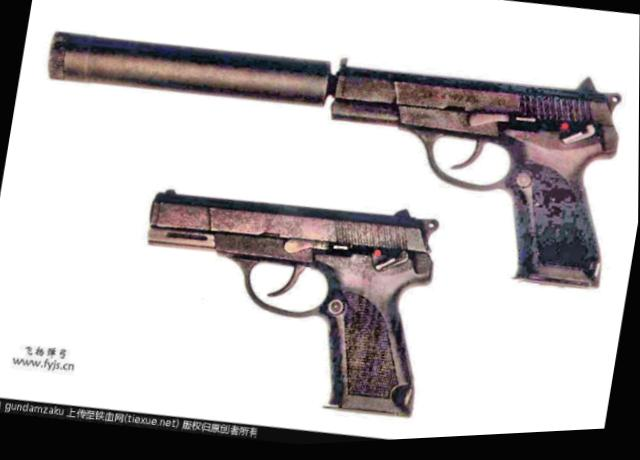pistol: (305, 46, 639, 310), (120, 172, 453, 434)
